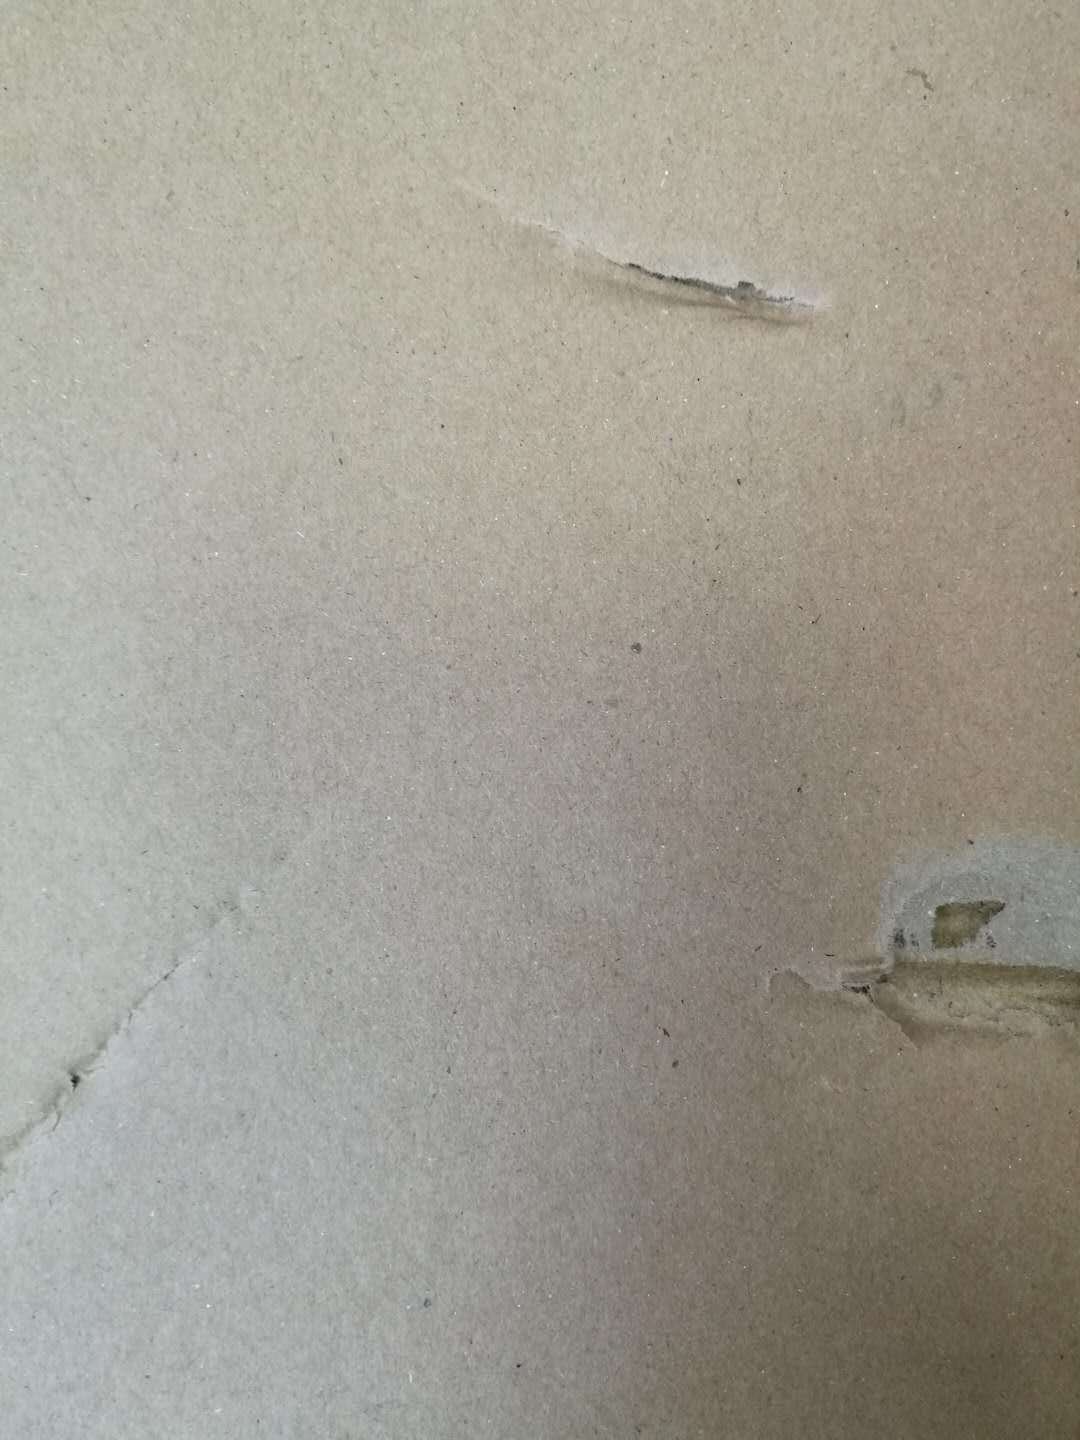defect: (6, 835, 351, 1198), (439, 155, 888, 375), (735, 819, 1080, 1074)
